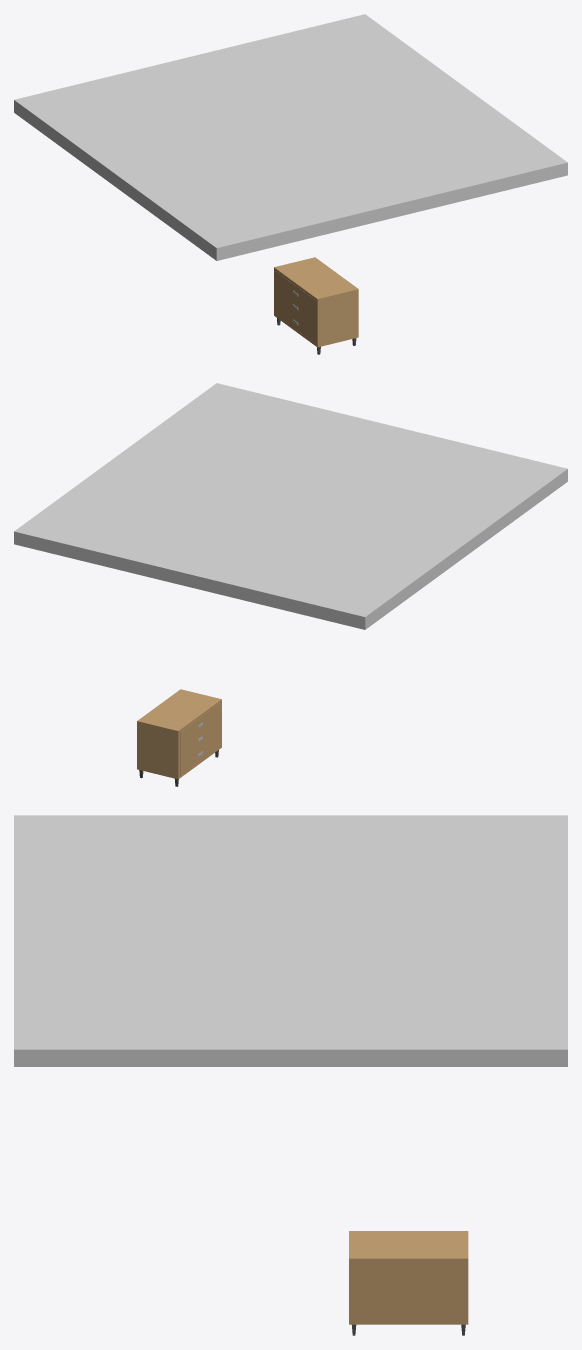
The model's file is drawer.fbx.
3 views of the same model, one above another, from view 1: azimuth 30°, elevation 25°; view 2: azimuth 150°, elevation 25°; view 3: azimuth 270°, elevation 25° (orthographic). The views are drawn at different scales.
Visible parts, largest first — view 1: Cube.012, CABINET, DRAWER 1, DRAWER 2, DRAWER 3; view 2: Cube.012, CABINET, DRAWER 1, DRAWER 2, DRAWER 3; view 3: Cube.012, CABINET.
Part boxes in pixels (x1=…): Cube.012: x1=14, y1=14, x2=567, y2=260; CABINET: x1=274, y1=257, x2=358, y2=347; DRAWER 1: x1=275, y1=271, x2=315, y2=314; DRAWER 2: x1=275, y1=286, x2=315, y2=329; DRAWER 3: x1=275, y1=300, x2=315, y2=343; Cube.012: x1=14, y1=383, x2=567, y2=629; CABINET: x1=137, y1=689, x2=221, y2=779; DRAWER 1: x1=180, y1=703, x2=220, y2=746; DRAWER 2: x1=180, y1=718, x2=220, y2=761; DRAWER 3: x1=180, y1=732, x2=220, y2=775; Cube.012: x1=14, y1=815, x2=567, y2=1066; CABINET: x1=349, y1=1231, x2=468, y2=1324.
Size of the model in its own units: 400 by 275 by 400.
